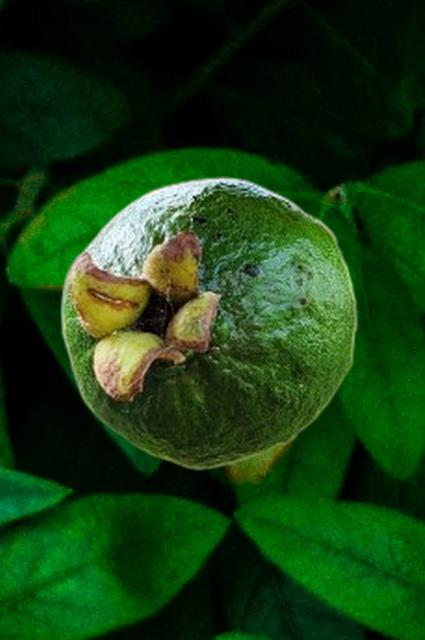guava: (59, 176, 358, 470)
